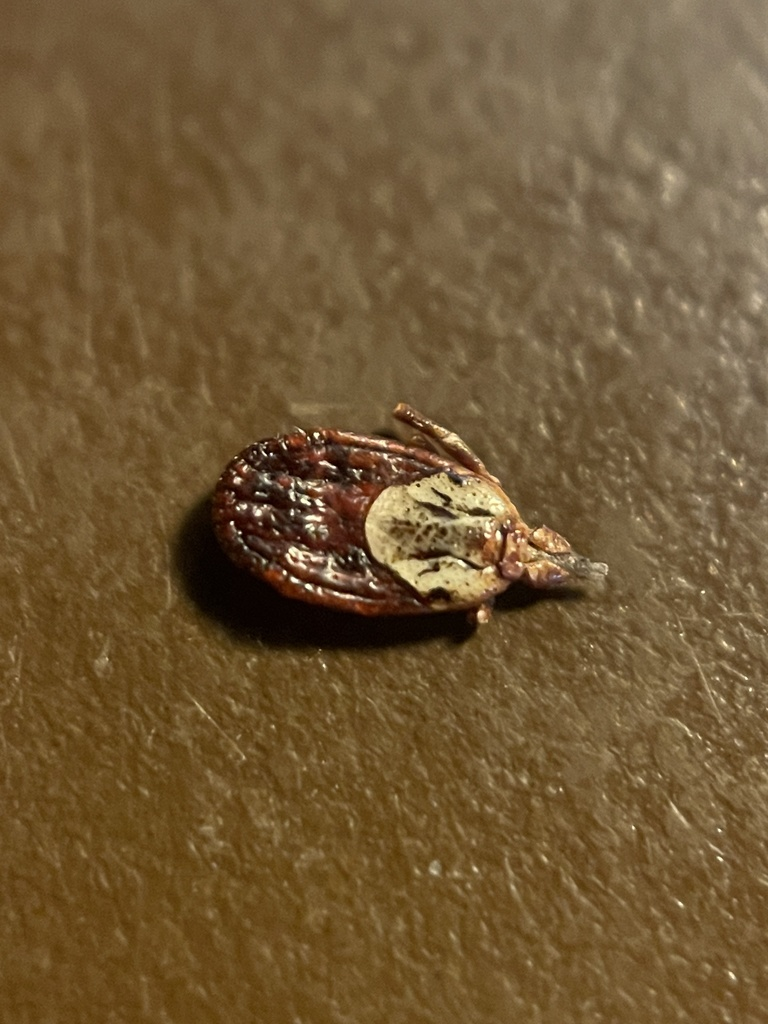garrapata: (169, 393, 615, 648)
